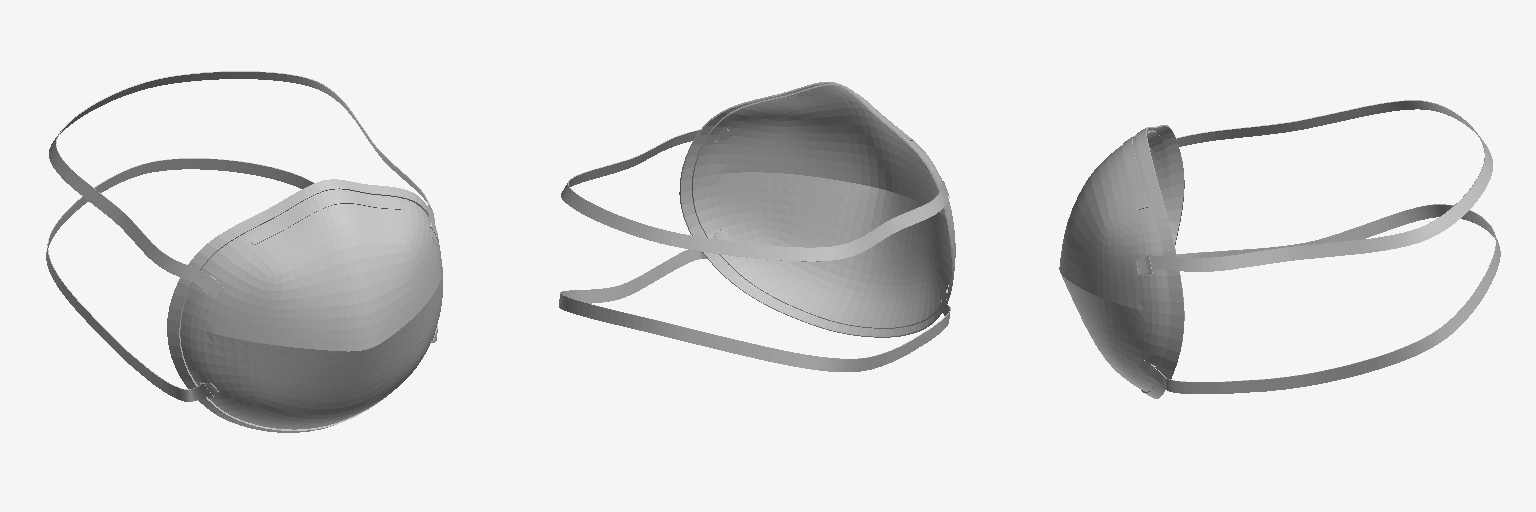
The picture shows the model from 3 angles: view 1: azimuth 30°, elevation 25°; view 2: azimuth 150°, elevation 25°; view 3: azimuth 270°, elevation 25°; orthographic projection.
Visible parts, largest first — view 1: Mask_N95_Body, Mask_N95_Strap_Up, Mask_N95_Strap_Down, Mask_N95_NoseClip; view 2: Mask_N95_Body, Mask_N95_Strap_Down, Mask_N95_Strap_Up; view 3: Mask_N95_Body, Mask_N95_Strap_Up, Mask_N95_Strap_Down, Mask_N95_NoseClip.
Boxes of the visible parts, box(x1,y1,x2,y2) form: Mask_N95_Body: box(167, 179, 442, 432); Mask_N95_Strap_Up: box(49, 71, 436, 299); Mask_N95_Strap_Down: box(46, 158, 437, 401); Mask_N95_NoseClip: box(246, 194, 400, 244); Mask_N95_Body: box(679, 82, 955, 337); Mask_N95_Strap_Down: box(559, 228, 950, 371); Mask_N95_Strap_Up: box(561, 129, 948, 261); Mask_N95_Body: box(1059, 125, 1184, 398); Mask_N95_Strap_Up: box(1136, 100, 1492, 274); Mask_N95_Strap_Down: box(1139, 204, 1500, 393); Mask_N95_NoseClip: box(1123, 135, 1147, 209).
Size of the model in its own units: 0.4066 by 0.3406 by 0.5472.